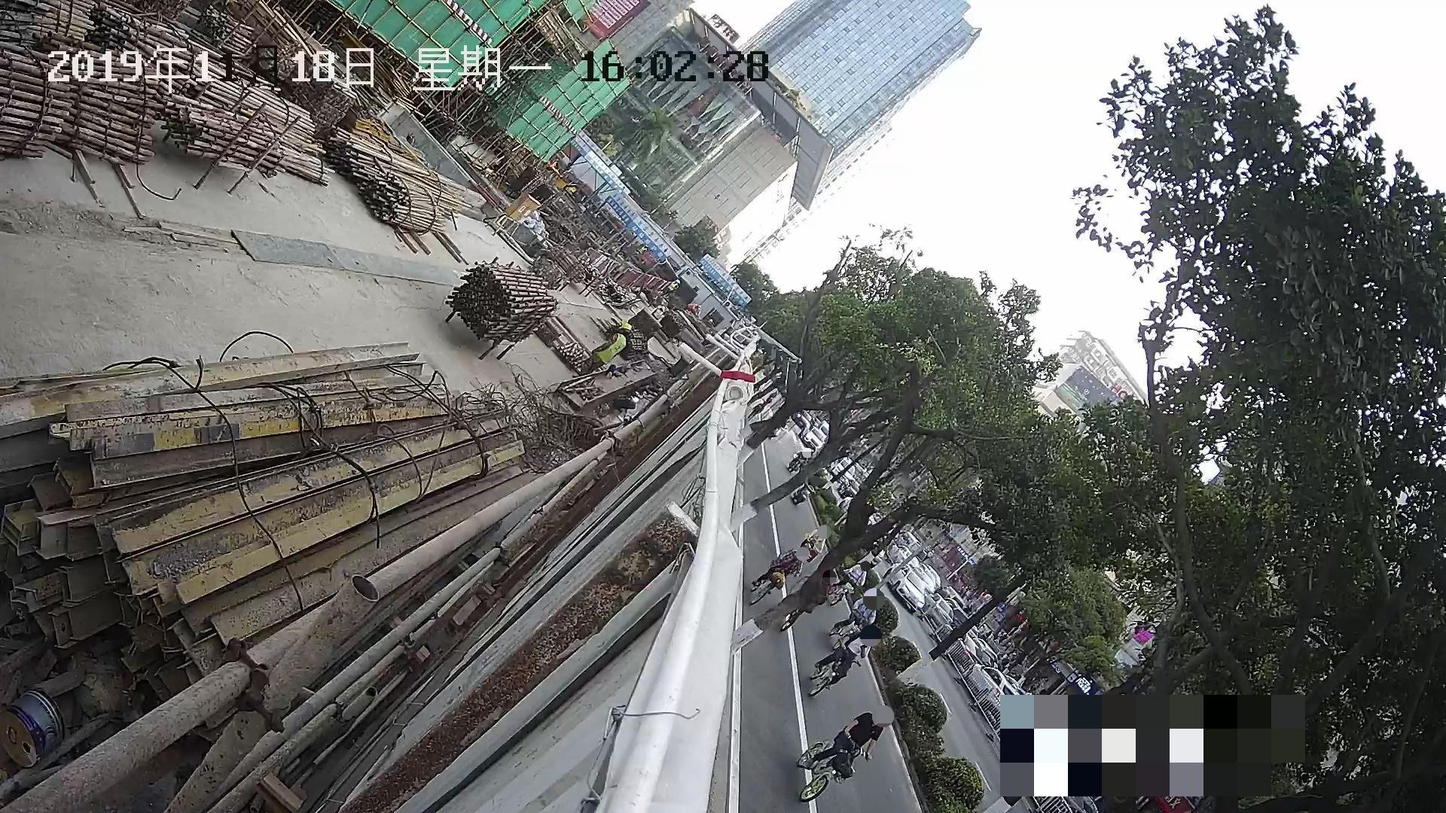hat: (618, 322, 632, 335)
head: (874, 708, 889, 723), (862, 631, 874, 641), (797, 550, 807, 559), (870, 595, 879, 604)
person: (807, 708, 890, 771), (572, 323, 631, 379), (819, 631, 874, 685), (755, 550, 807, 586), (835, 595, 878, 635)
